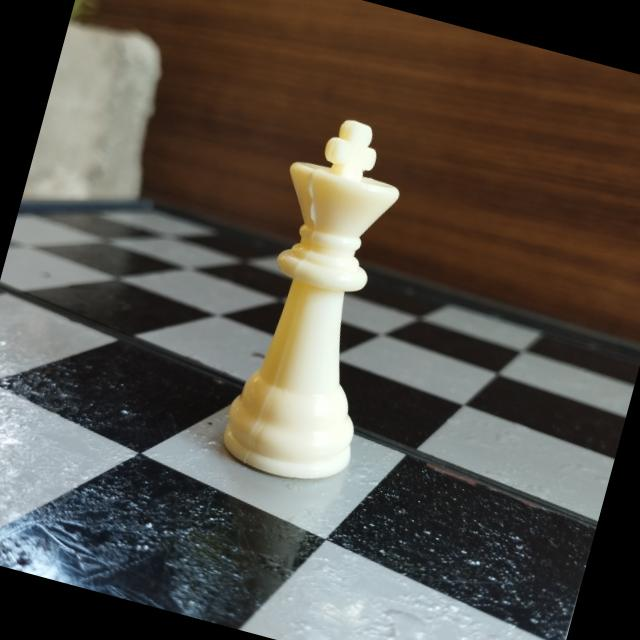White King: (194, 96, 445, 504)
